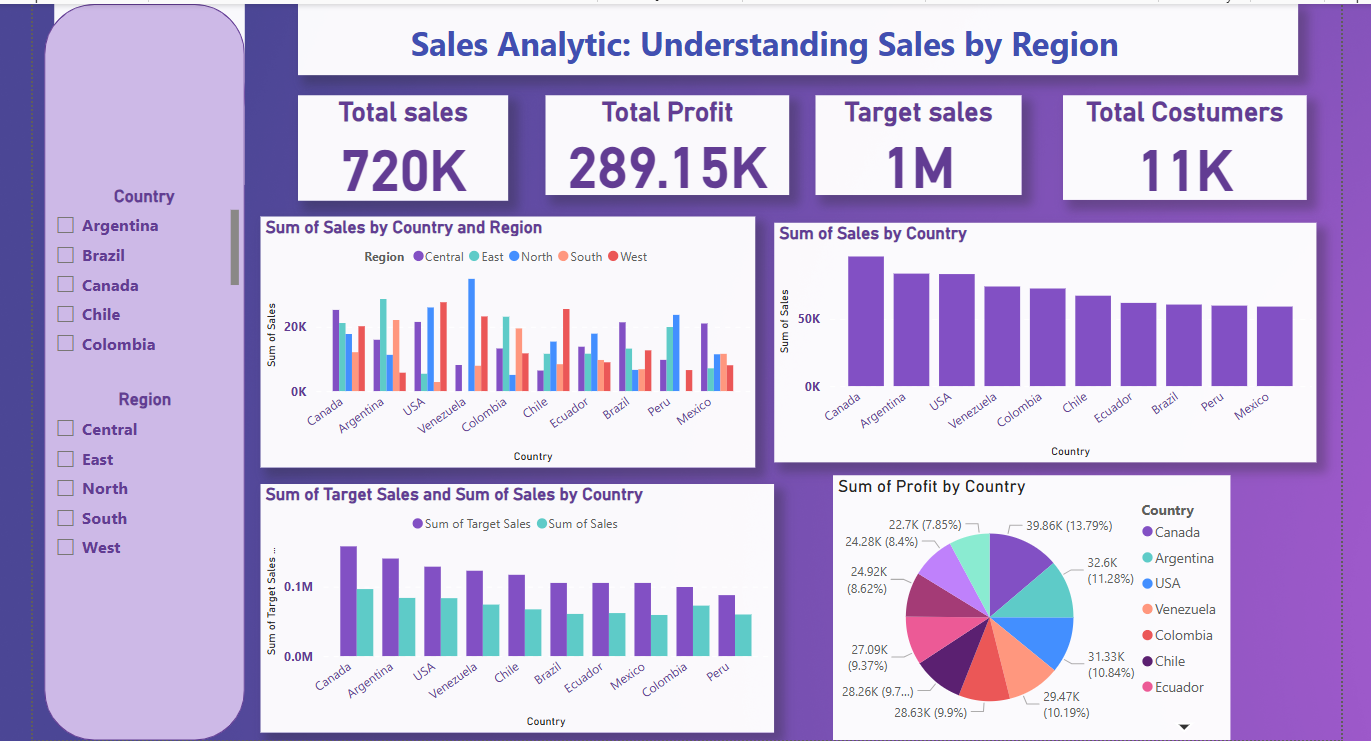

What the dashboard file says about the page in this screenshot:
{"tool":"powerbi","page":{"name":"Page 1","canvas":[1280,720],"ordinal":0},"visuals":[{"type":"textbox","box":[259.3,0,978.4,70],"z":0},{"type":"shape","box":[20.6,0,186.6,177],"z":1000},{"type":"shape","box":[11,0,196.2,720.4],"z":2000},{"type":"card","title":"Total sales","fields":{"Values":["Sum(socail_media_analytics.Sales)"]},"box":[259.3,89.2,205.8,102.9],"z":3000},{"type":"card","title":"Total Profit","fields":{"Values":["Sum(socail_media_analytics.Profit)"]},"box":[500.9,89.2,238.8,97.4],"z":4000},{"type":"card","title":"Target sales","fields":{"Values":["Sum(socail_media_analytics.Target Sales)"]},"box":[765.7,89.2,201.7,97.4],"z":5000},{"type":"card","title":"Total Costumers","fields":{"Values":["Sum(socail_media_analytics.No of Customers)"]},"box":[1007.6,89.3,238.5,102.7],"z":6000},{"type":"clusteredColumnChart","fields":{"Y":["Sum(socail_media_analytics.Sales)"],"Category":["socail_media_analytics.Country"],"Series":["socail_media_analytics.Region"]},"box":[222.6,207.9,484.2,245.8],"z":7000},{"type":"clusteredColumnChart","fields":{"Y":["Sum(socail_media_analytics.Sales)"],"Category":["socail_media_analytics.Country"]},"box":[725.1,214,530.7,234.8],"z":8000},{"type":"clusteredColumnChart","fields":{"Category":["socail_media_analytics.Country"],"Y":["Sum(socail_media_analytics.Target Sales)","Sum(socail_media_analytics.Sales)"]},"box":[222.6,469.6,502.6,243.3],"z":9000},{"type":"slicer","title":"Country","fields":{"Values":["socail_media_analytics.Country"]},"box":[11,177.3,195.7,174.9],"z":10000},{"type":"slicer","title":"Region","fields":{"Values":["socail_media_analytics.Region"]},"box":[11,376.6,196.9,198.1],"z":11000},{"type":"pieChart","fields":{"Category":["socail_media_analytics.Country"],"Y":["Sum(socail_media_analytics.Profit)"]},"box":[782.6,461,388.9,259.2],"z":12000}]}

Visuals, with their boxes in screenshot pixels (x1, y1, x2, y2):
textbox: [left=296, top=0, right=1291, bottom=71]
shape: [left=53, top=0, right=243, bottom=180]
shape: [left=43, top=0, right=243, bottom=733]
"Total sales" card: [left=296, top=91, right=505, bottom=195]
"Total Profit" card: [left=542, top=91, right=785, bottom=190]
"Target sales" card: [left=811, top=91, right=1016, bottom=190]
"Total Costumers" card: [left=1057, top=91, right=1300, bottom=195]
clusteredColumnChart - Sum(socail_media_analytics.Sales) x socail_media_analytics.Country: [left=259, top=211, right=751, bottom=461]
clusteredColumnChart - Sum(socail_media_analytics.Sales) x socail_media_analytics.Country: [left=770, top=218, right=1309, bottom=457]
clusteredColumnChart - socail_media_analytics.Country x Sum(socail_media_analytics.Target Sales): [left=259, top=478, right=770, bottom=725]
"Country" slicer: [left=43, top=180, right=242, bottom=358]
"Region" slicer: [left=43, top=383, right=244, bottom=585]
pieChart - socail_media_analytics.Country x Sum(socail_media_analytics.Profit): [left=828, top=469, right=1224, bottom=733]
